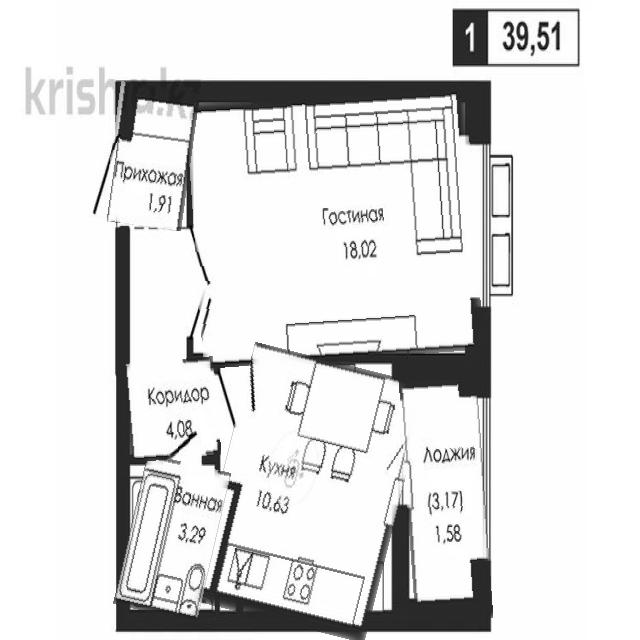bathroom: (121, 458, 223, 620)
hallway: (107, 84, 195, 229), (122, 358, 219, 461)
kitchen: (205, 351, 414, 634)
living_room: (190, 87, 479, 364)
other: (402, 362, 489, 621)
